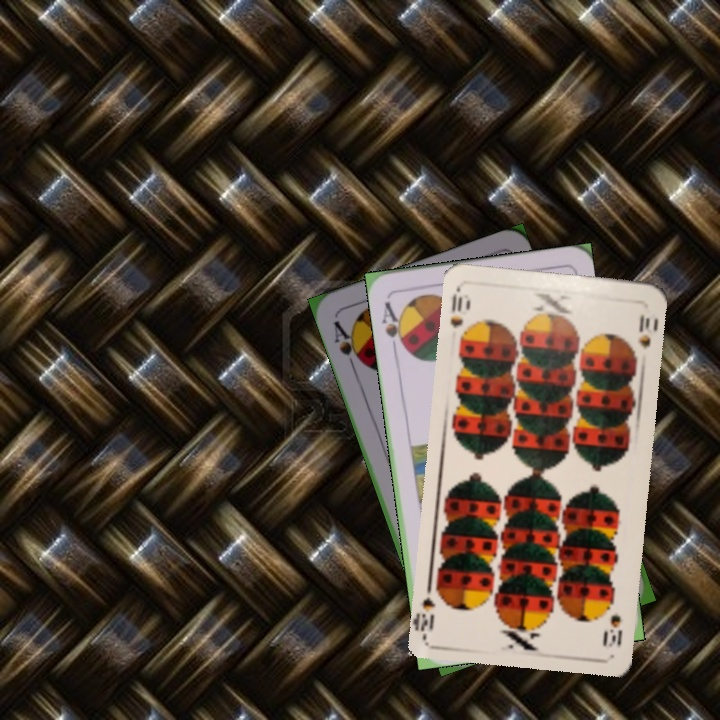S10: (446, 286, 473, 346), (600, 610, 625, 650)
SA: (329, 316, 367, 372), (378, 298, 409, 354)
